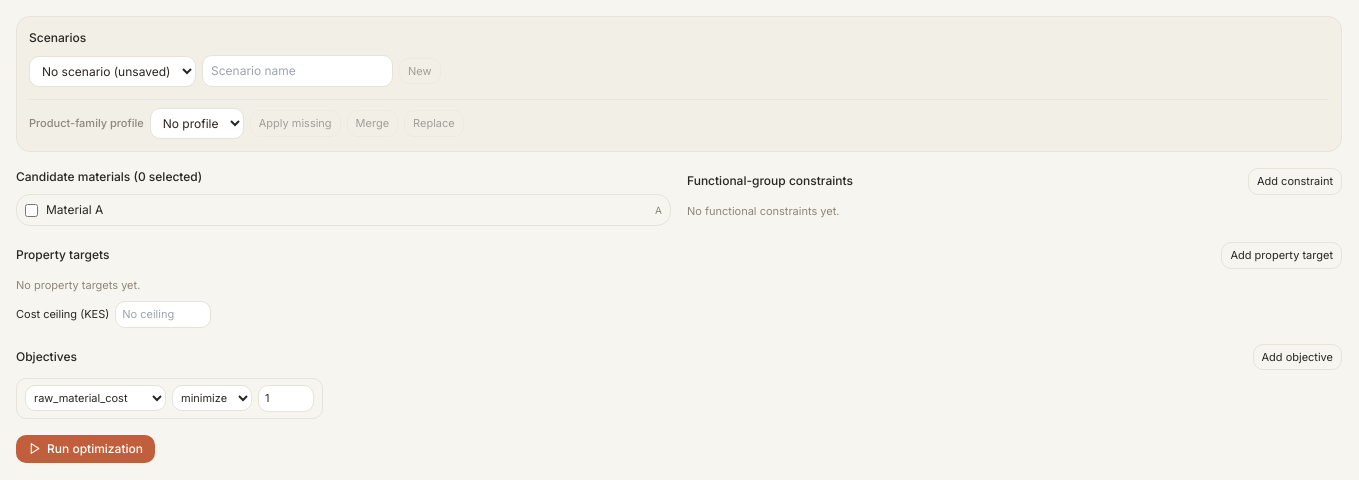
Test: AdvancedOptimizerPanel — scenario lifecycle › loads a saved scenario's candidate selection when chosen from the selector
Expected: the text "Material A" is shown, [46,201,103,219]
Select "Saved scenario" in the dropdown named "Scenario" at coordinates (112, 71), box [29,56,196,86]
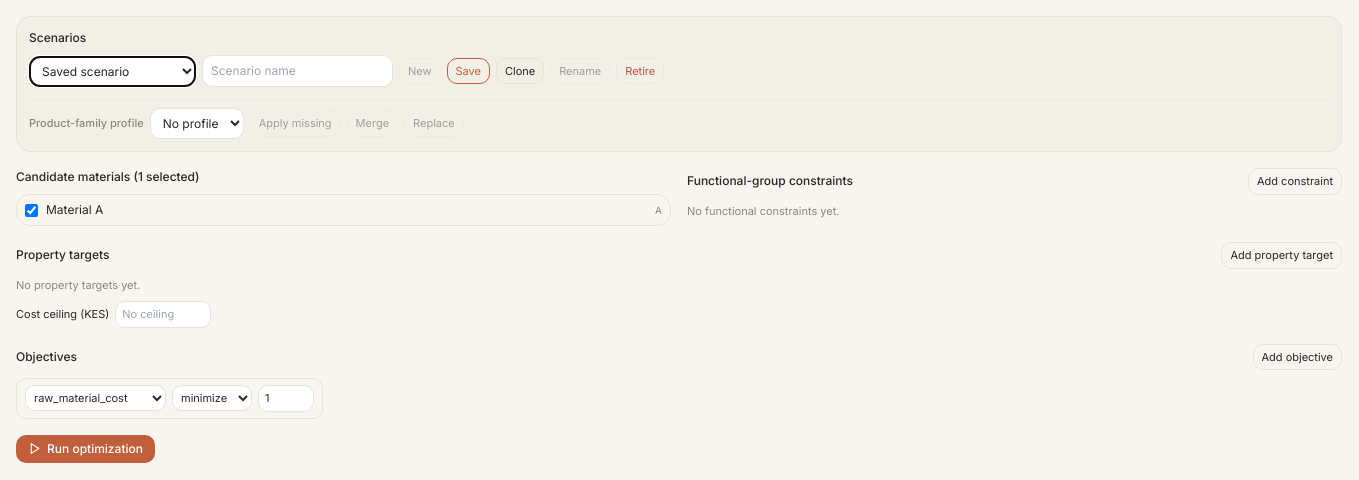
Expected: the checkbox labelled "Material A A" is checked, [25,204,38,216]
